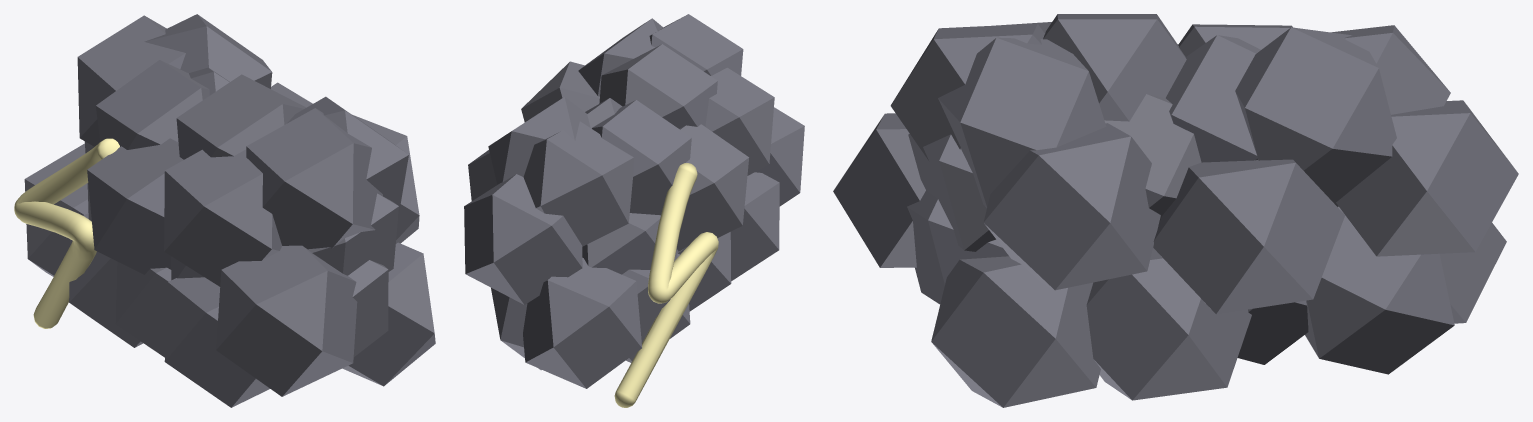
Rendered from Light Cloud.fbx.
3 views of the same model, side by side, from view 1: azimuth 30°, elevation 25°; view 2: azimuth 150°, elevation 25°; view 3: azimuth 270°, elevation 25° (orthographic). The views are drawn at different scales.
Visible parts, largest first — view 1: lightcloud10; view 2: lightcloud10; view 3: lightcloud10.
Part boxes in pixels (x1,y1,x2,y2): lightcloud10: (14, 14, 435, 407); lightcloud10: (464, 14, 804, 407); lightcloud10: (833, 14, 1518, 407).
Bounding box in the file's own units: 40.7 × 41.44 × 69.15.
